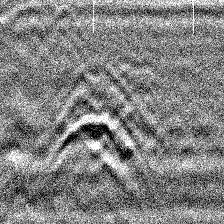Utility: (49, 113, 142, 169)
